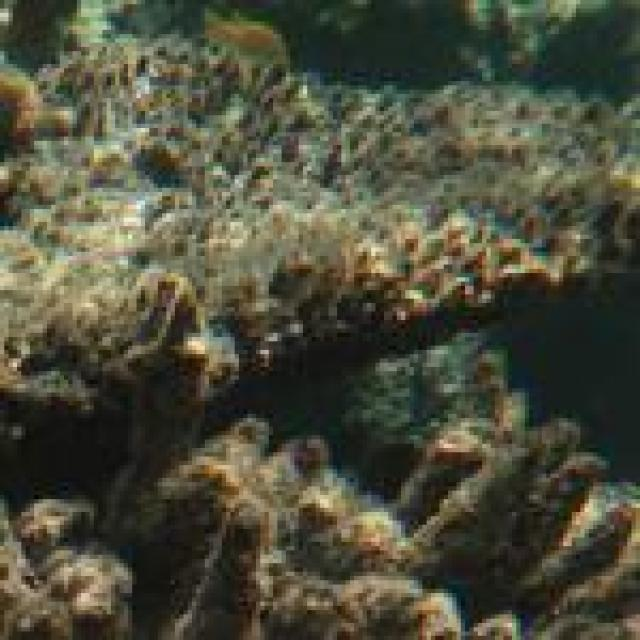Dead Coral: (0, 0, 640, 420), (405, 426, 634, 640)
